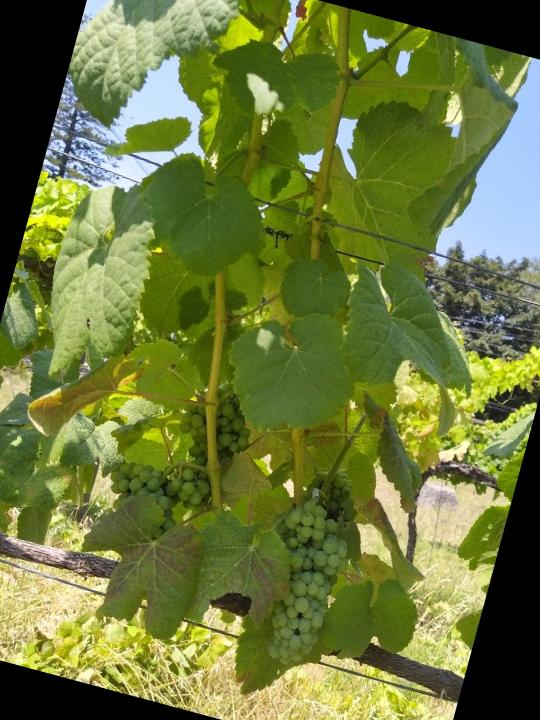grape: (246, 491, 361, 676), (157, 387, 261, 519), (93, 450, 194, 544)
